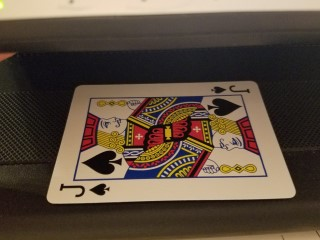JackOfSpades: (46, 80, 297, 204)
